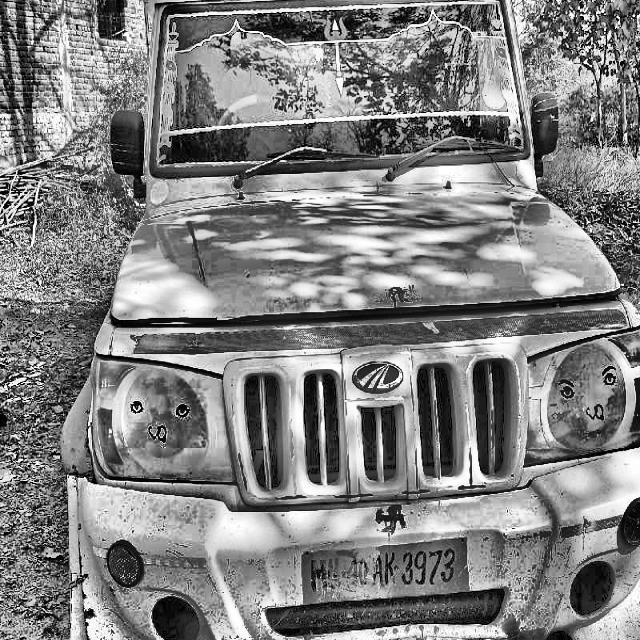light_vehicle: (59, 0, 640, 640)
